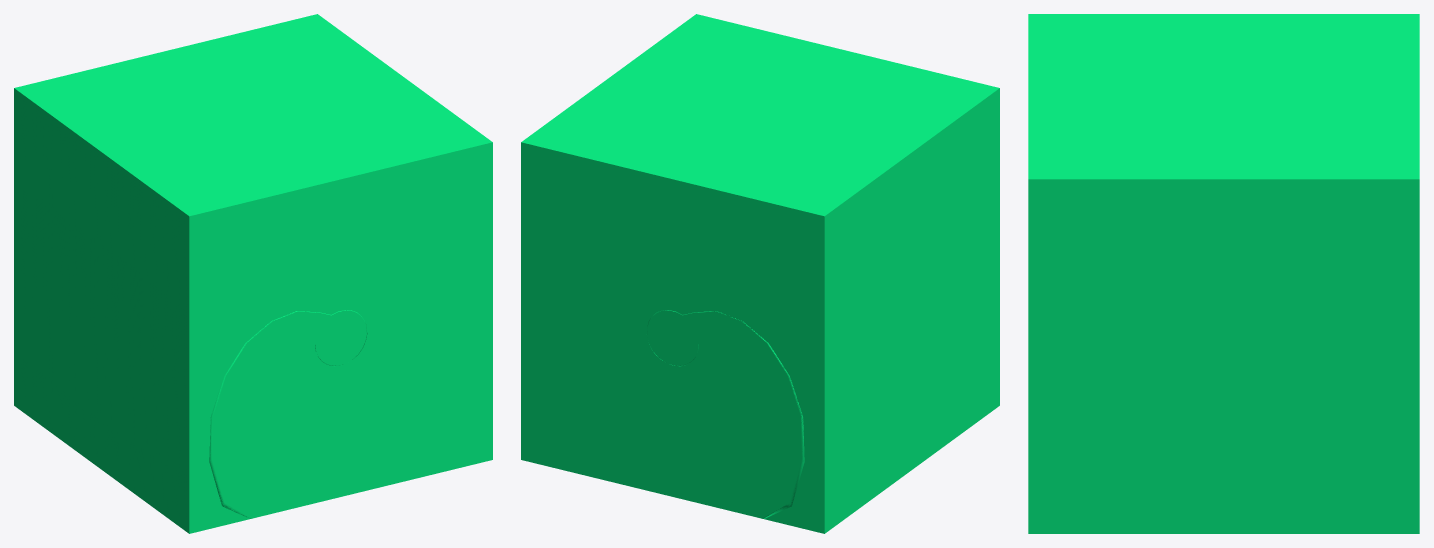
The model's file is quaternion_rotation_sketchfab_animated_1764416382361.glb.
The picture shows the model from 3 angles, left to right: view 1: azimuth 30°, elevation 25°; view 2: azimuth 150°, elevation 25°; view 3: azimuth 270°, elevation 25°; orthographic projection. The views are drawn at different scales.
Parts seen in each view (by area): view 1: MathShape; view 2: MathShape; view 3: MathShape.
Boxes of the visible parts, x1,y1,x2,y2 form: MathShape: (14, 14, 492, 533); MathShape: (521, 14, 999, 533); MathShape: (1028, 14, 1419, 533).
Bounding box in the file's own units: 2000 × 2000 × 2000.
